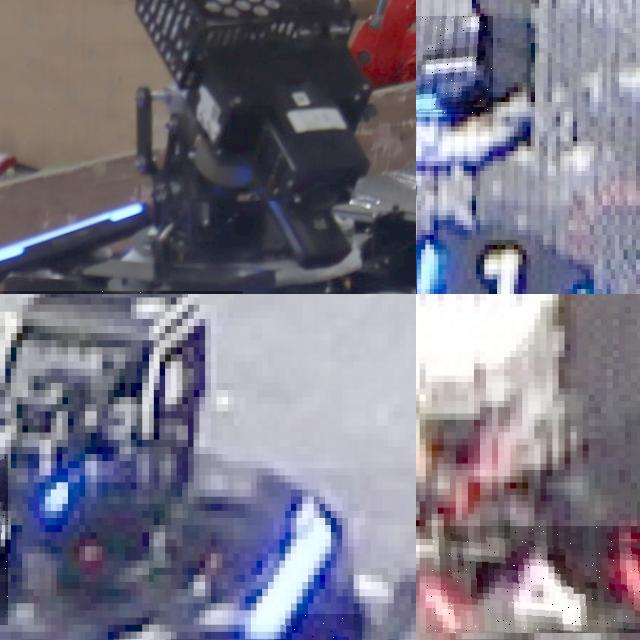B1: (416, 225, 606, 294), (416, 15, 493, 114)
R4: (425, 526, 640, 632)
